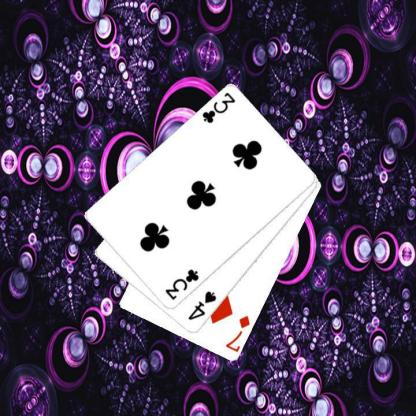3C: (162, 266, 200, 302), (199, 89, 237, 124)
4S: (185, 288, 218, 322)
7D: (222, 313, 252, 353)
